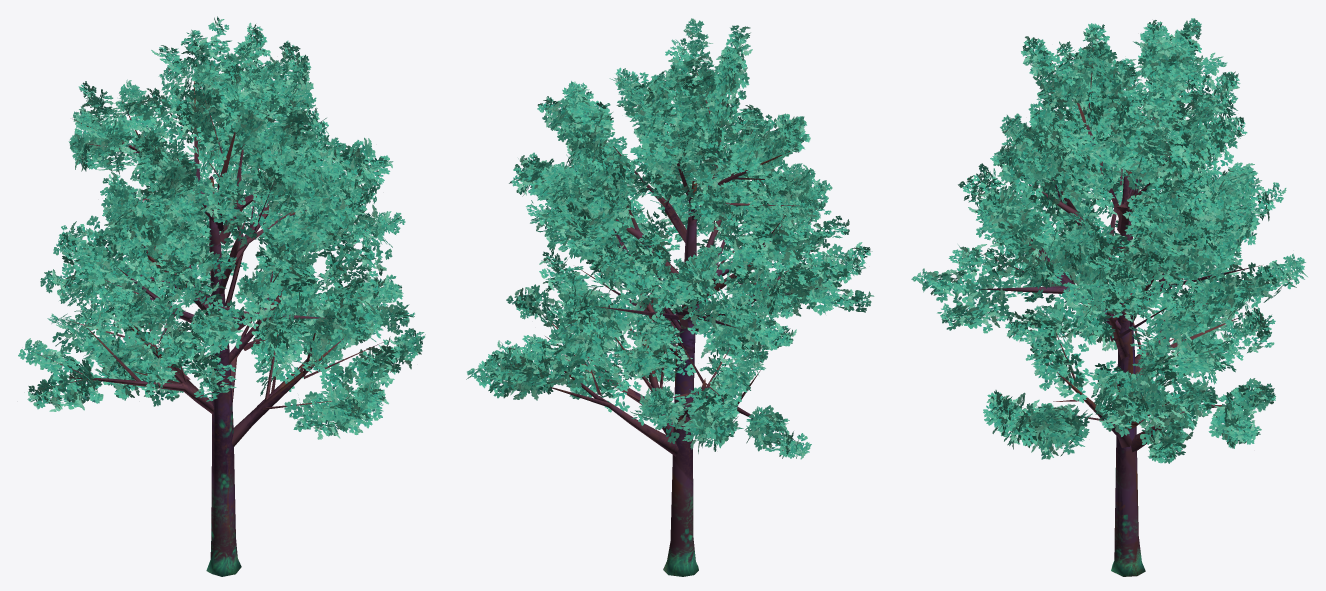
The model's file is M_Arbre.FBX.
3 renders of one model, left to right at view 1: azimuth 30°, elevation 25°; view 2: azimuth 150°, elevation 25°; view 3: azimuth 270°, elevation 25°, orthographic. The views are drawn at different scales.
Visible parts, largest first — view 1: arbre001; view 2: arbre001; view 3: arbre001.
Boxes of the visible parts, bbox=[...] form: arbre001: bbox=[18, 16, 425, 576]; arbre001: bbox=[466, 18, 874, 576]; arbre001: bbox=[911, 18, 1307, 576].
Size of the model in its own units: 1371 by 2033 by 1379.
